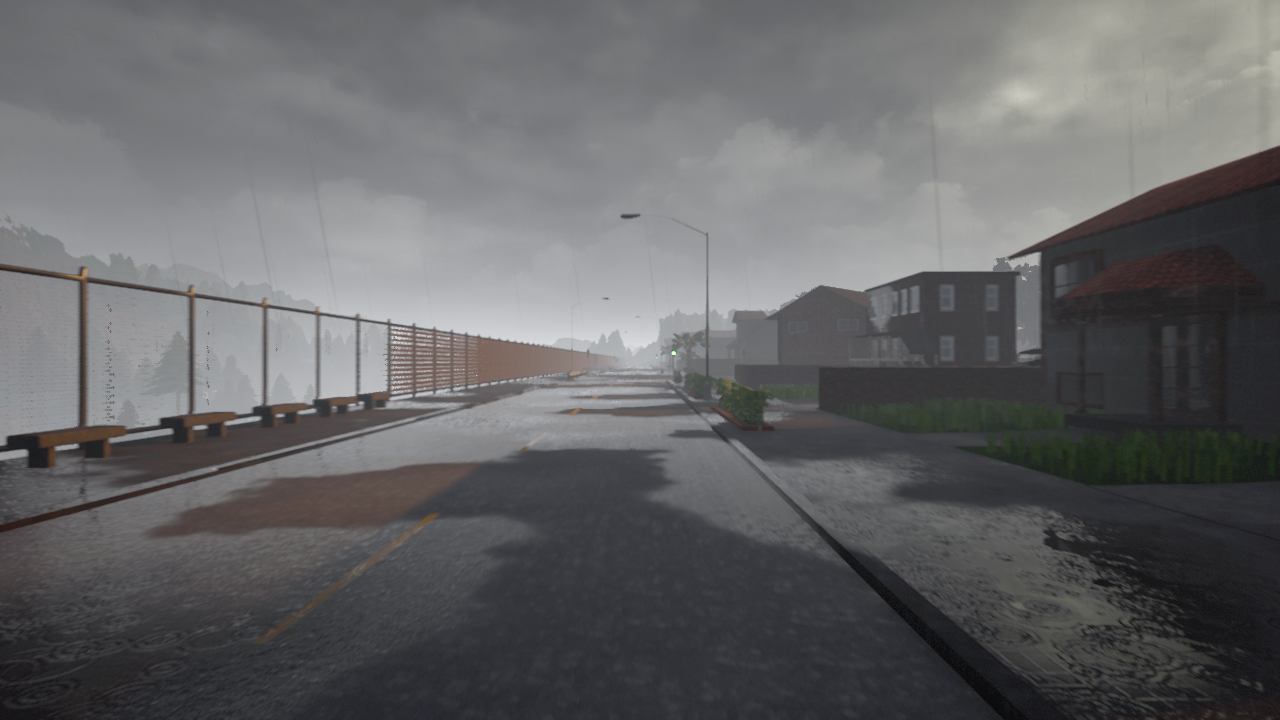green: (671, 344, 676, 356)
